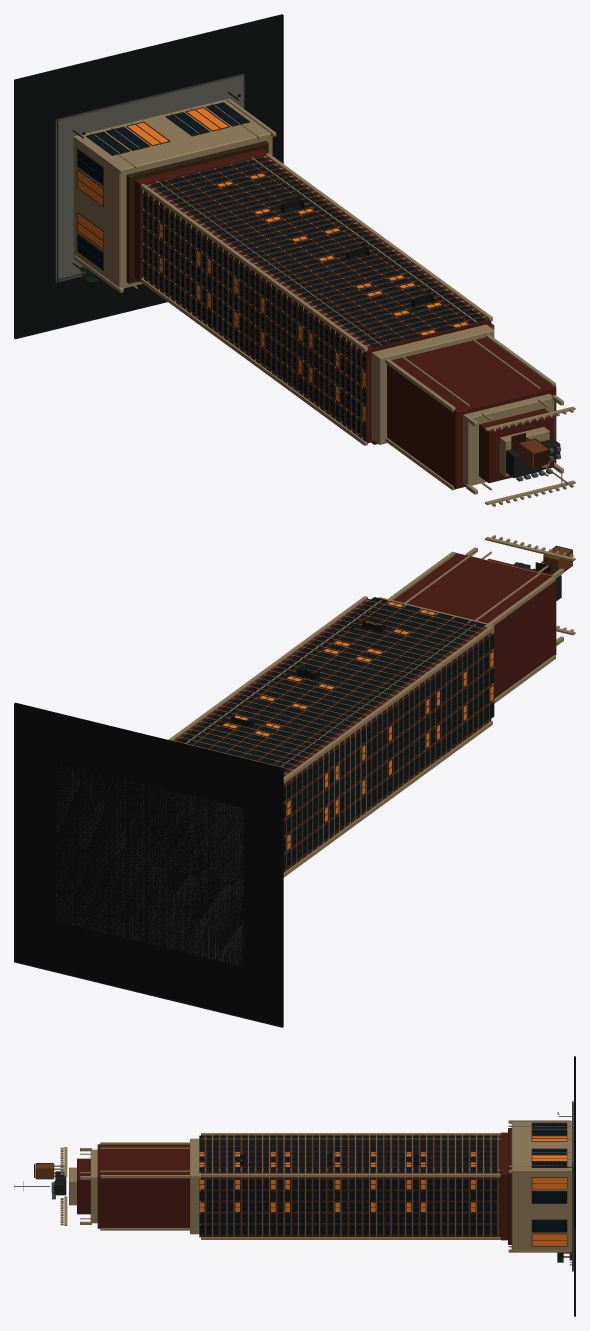
Rendered from downtown_art_deco_tower.obj.
3 renders of one model, top to bottom at view 1: azimuth 30°, elevation 25°; view 2: azimuth 150°, elevation 25°; view 3: azimuth 270°, elevation 25°, orthographic. The views are drawn at different scales.
Bounding box in the file's own units: 76 × 70 × 206.
